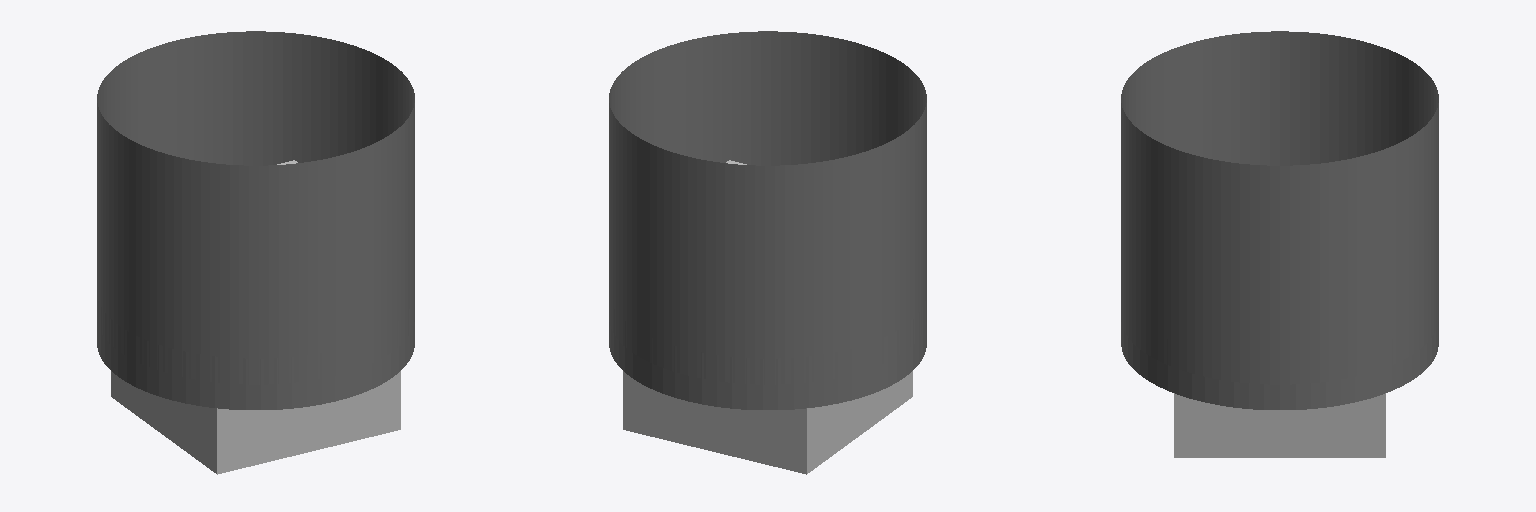
The model's file is TestRange.obj.
The picture shows the model from 3 angles: view 1: azimuth 30°, elevation 25°; view 2: azimuth 150°, elevation 25°; view 3: azimuth 270°, elevation 25°; orthographic projection.
Parts seen in each view (by area): view 1: pCylinder1_Mesh.002, Cube, pCylinder2_Mesh.003; view 2: pCylinder1_Mesh.002, Cube, pCylinder2_Mesh.003; view 3: pCylinder1_Mesh.002, Cube, pCylinder2_Mesh.003.
Part boxes in pixels (left/top/right/bottom): pCylinder1_Mesh.002: left=97, top=31, right=414, bottom=384; Cube: left=111, top=160, right=400, bottom=474; pCylinder2_Mesh.003: left=97, top=301, right=414, bottom=409; pCylinder1_Mesh.002: left=609, top=31, right=926, bottom=384; Cube: left=623, top=160, right=912, bottom=474; pCylinder2_Mesh.003: left=609, top=301, right=926, bottom=409; pCylinder1_Mesh.002: left=1121, top=31, right=1438, bottom=384; Cube: left=1174, top=393, right=1385, bottom=457; pCylinder2_Mesh.003: left=1121, top=322, right=1438, bottom=409.
Bounding box in the file's own units: 3 × 3.28 × 3.